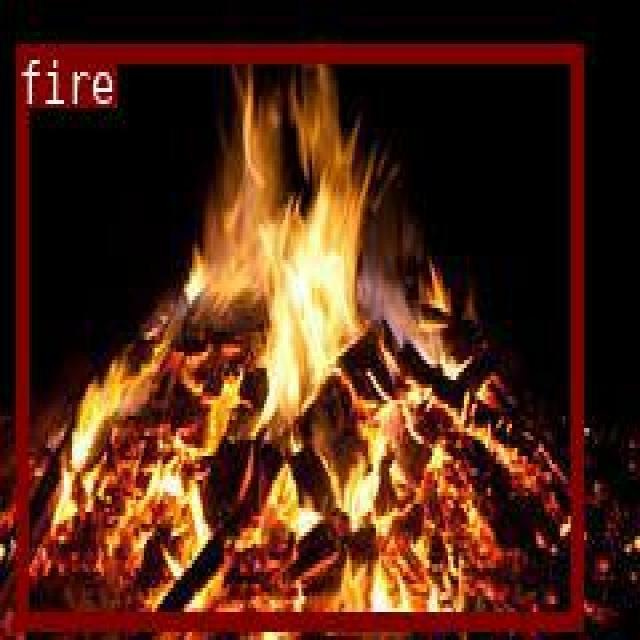fire: (16, 43, 580, 626)
